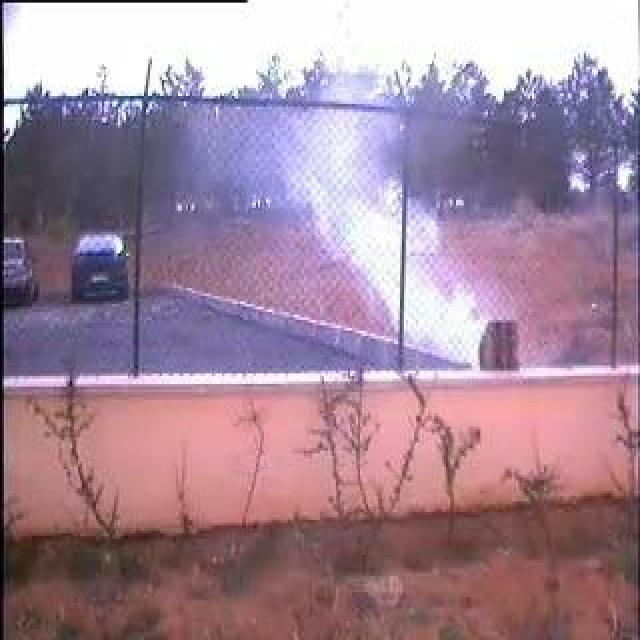Smoke: (292, 91, 532, 373)
